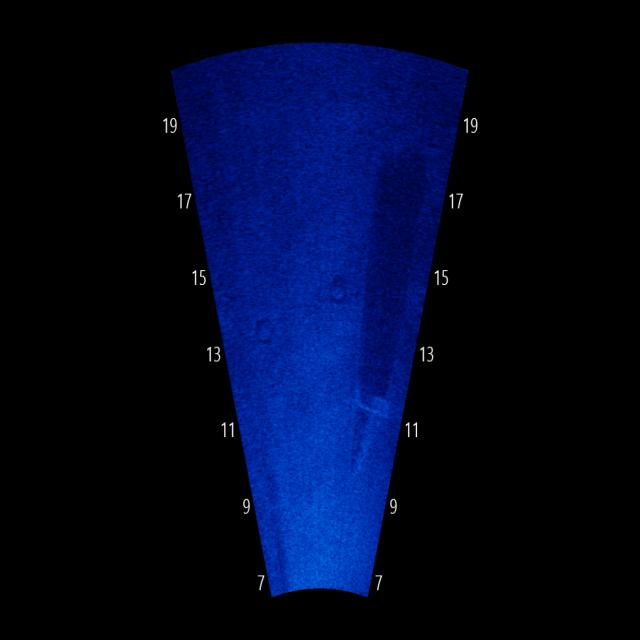circle: (322, 270, 352, 311), (252, 312, 282, 353)
triangle: (343, 377, 393, 484)
